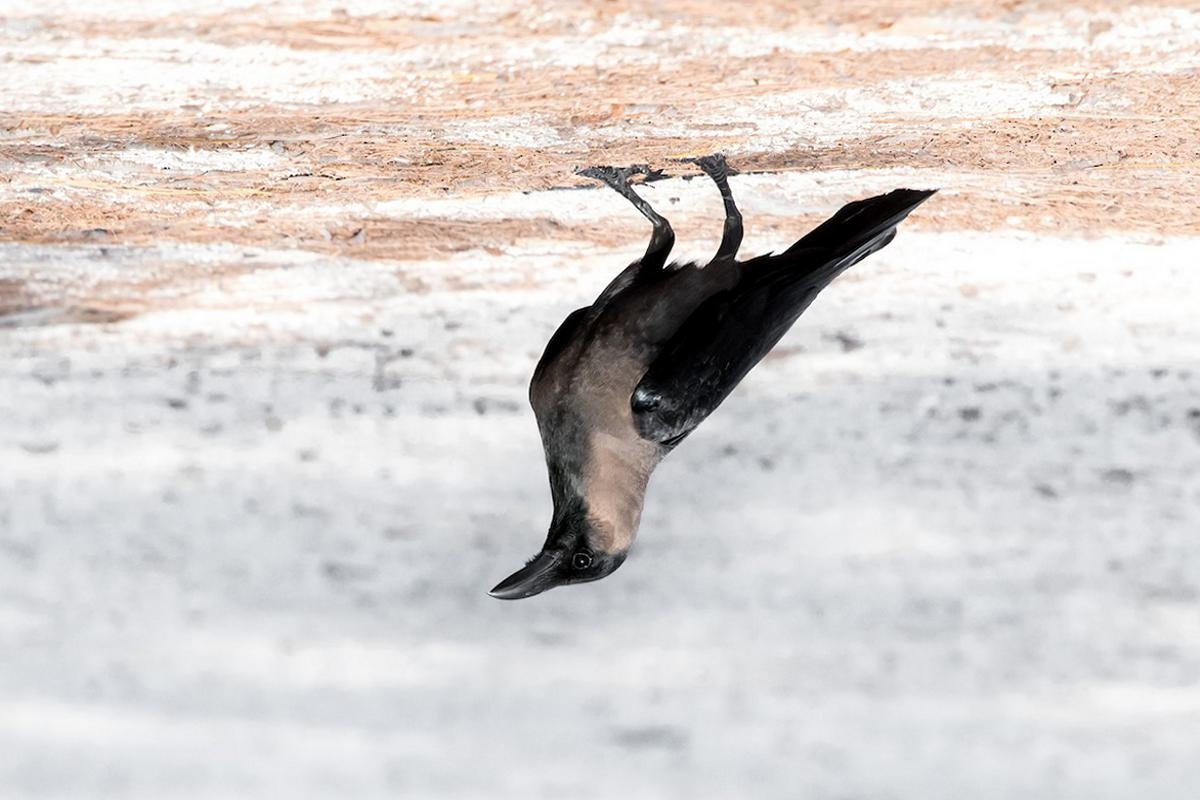crow: (479, 132, 913, 613)
